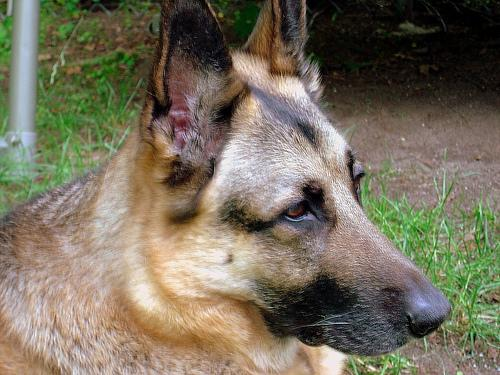German_shepherd: (0, 0, 451, 374)
